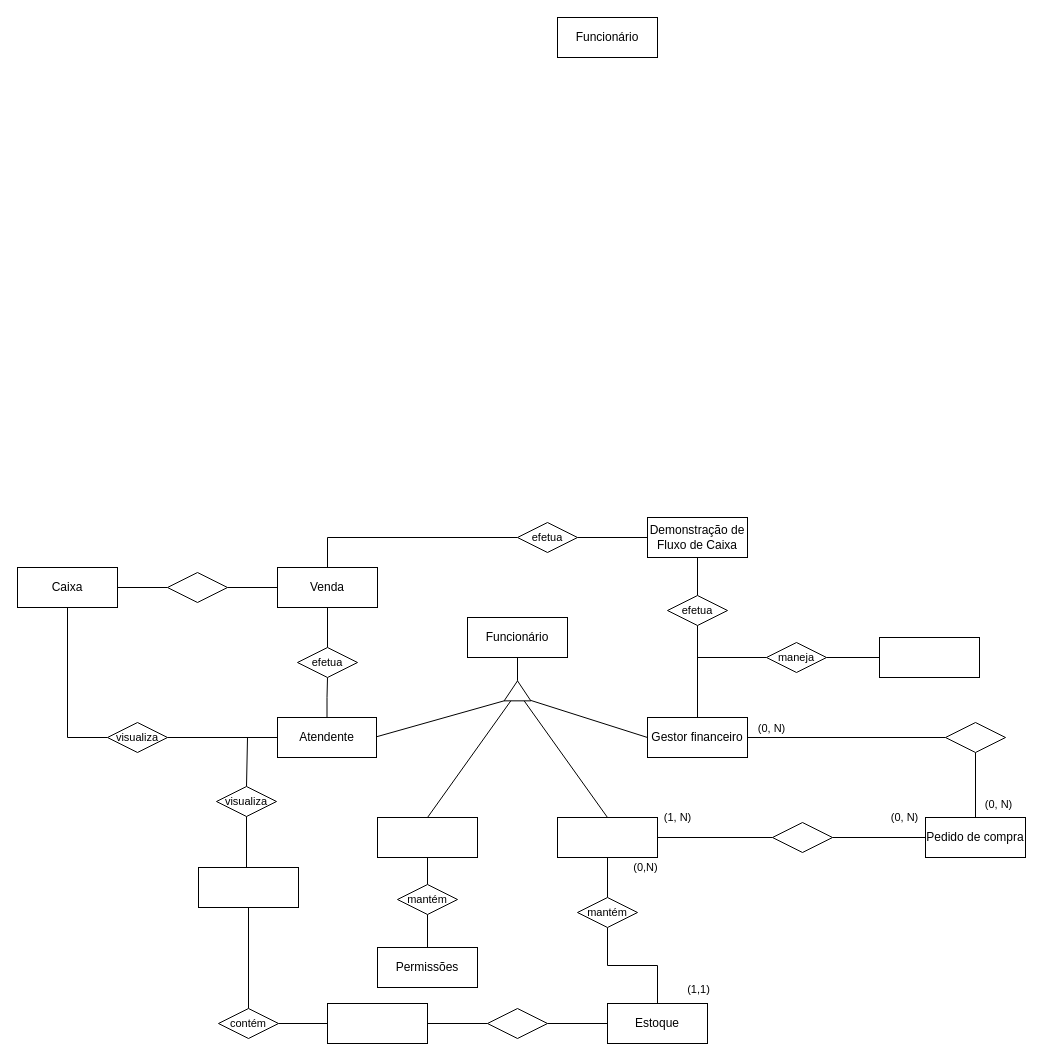
Some shapes in this 1043 by 1061 pixel diagram are drawn without their labels. The centre of each missing label's shape, as x and y in pixels:
[verbo]: (x=197, y=587)
Almoxarife: (x=607, y=837)
Despesa: (x=929, y=657)
emite: (x=802, y=837)
está: (x=517, y=1023)
gere: (x=975, y=737)
Gestor de negócio: (x=427, y=837)
Insumo: (x=377, y=1023)
Produto: (x=248, y=887)
